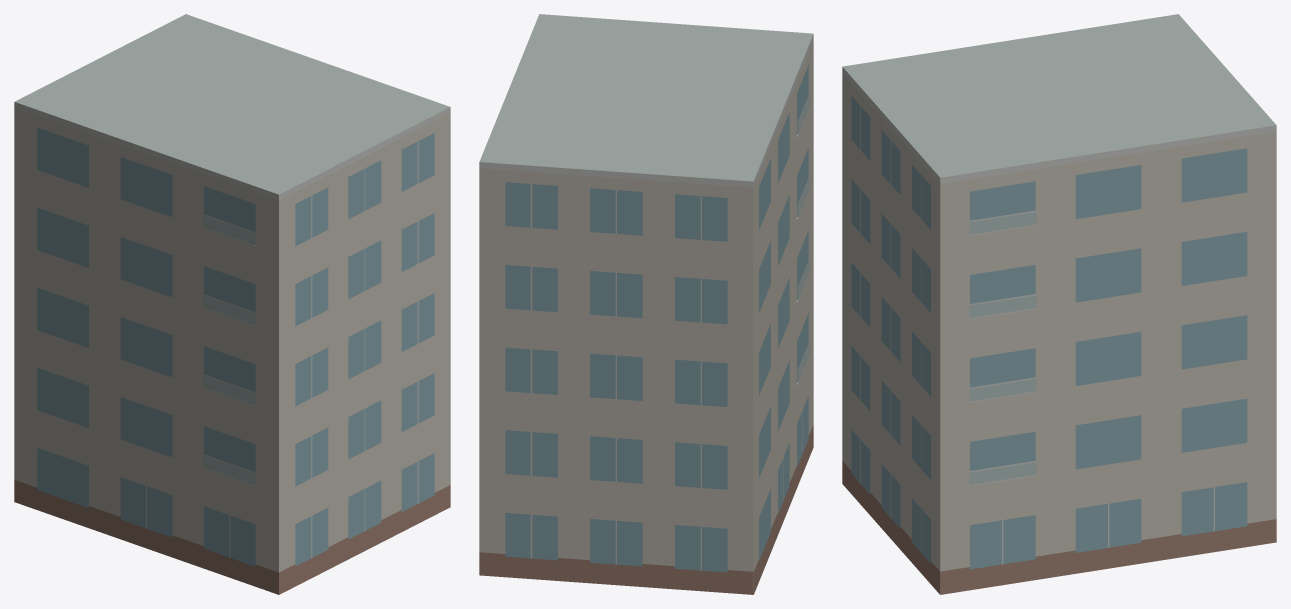
The model's file is survey-upis-33033372.glb.
The picture shows the model from 3 angles, left to right: view 1: azimuth 30°, elevation 25°; view 2: azimuth 150°, elevation 25°; view 3: azimuth 270°, elevation 25°; orthographic projection. The views are drawn at different scales.
Visible parts, largest first — view 1: survey-upis-33033372.tmp; view 2: survey-upis-33033372.tmp; view 3: survey-upis-33033372.tmp.
Boxes of the visible parts, x1,y1,x2,y2 form: survey-upis-33033372.tmp: (14, 14, 450, 594); survey-upis-33033372.tmp: (479, 14, 813, 594); survey-upis-33033372.tmp: (842, 14, 1276, 594).
Bounding box in the file's own units: 13.65 × 16.2 × 15.3.
